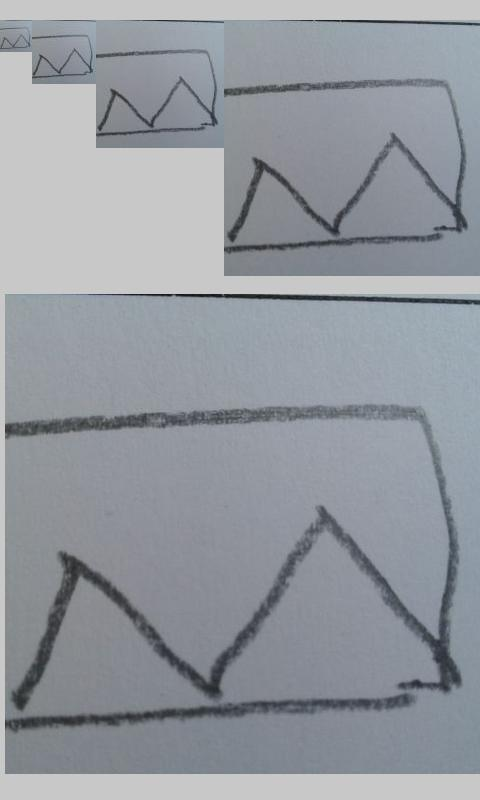image_view: (7, 403, 461, 730), (227, 80, 467, 253), (99, 48, 220, 139), (33, 34, 93, 79), (1, 27, 31, 50)
